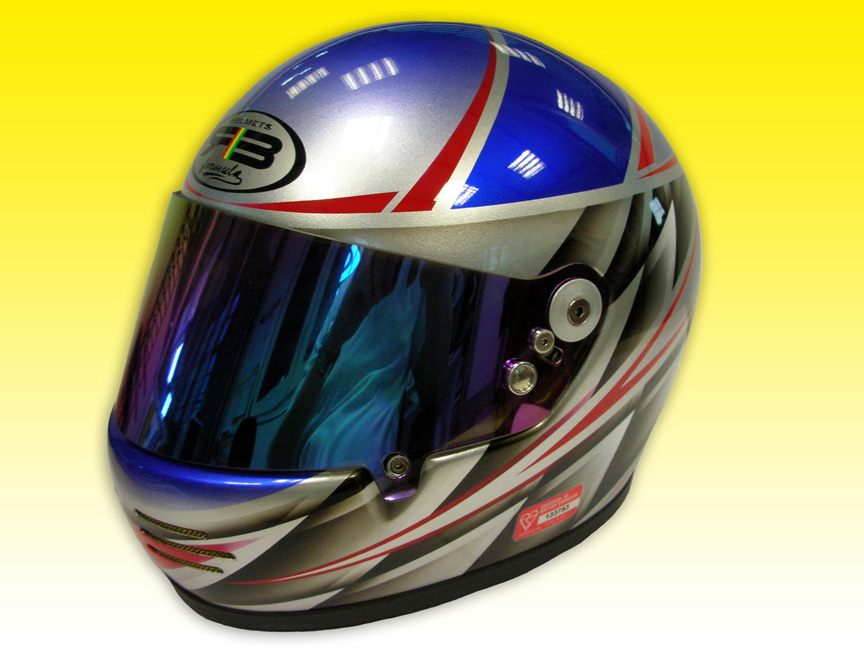helmet: (141, 44, 665, 579)
